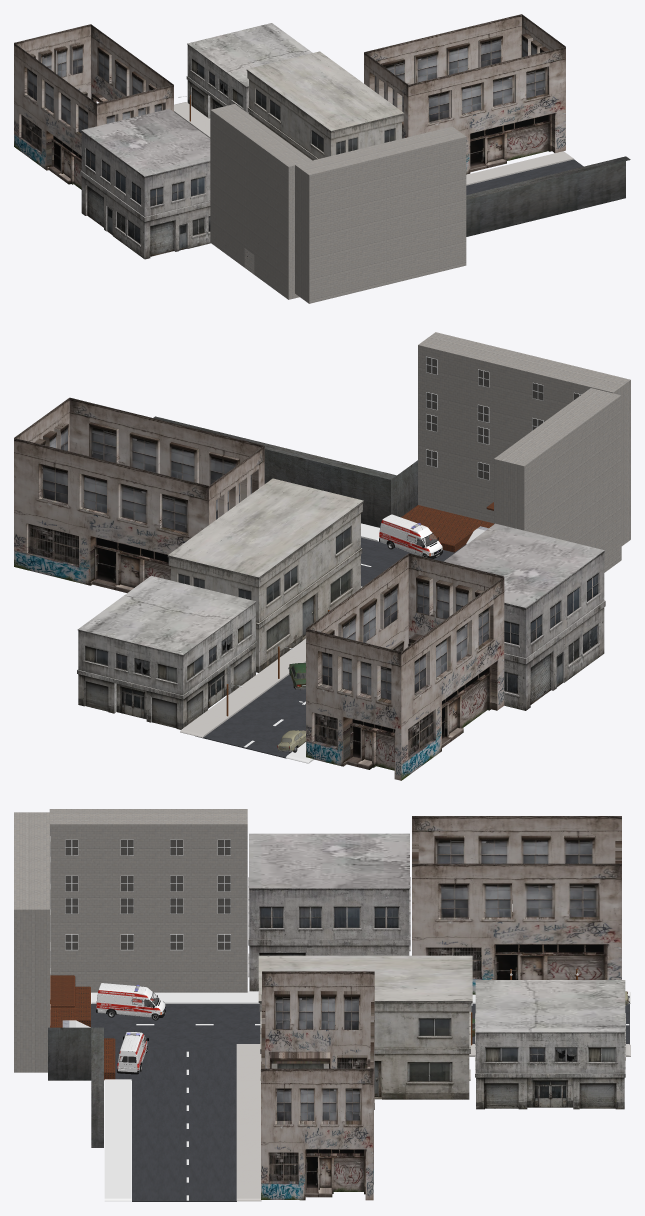
File: Street.glb
3 renders of one model, top to bottom at view 1: azimuth 30°, elevation 25°; view 2: azimuth 150°, elevation 25°; view 3: azimuth 270°, elevation 25°, orthographic. The views are drawn at different scales.
Visible parts, largest first — view 1: Hospital, building.003_Building_0.002, Building 2_2_0.001, building.003_Building_0.001, Hospital.001, Building 3_3_0.001, Object_2.004, Building 1_1_0.001, Left_Side, Left_Street; view 2: building.003_Building_0.001, building.003_Building_0.002, Hospital, Building 3_3_0.001, Building 1_1_0.001, Building 2_2_0.001, Hospital.001, Object_2.004, Street, Left_Side, Hospital_Step, Ambulance_Car.001 (+1 smaller); view 3: Hospital.001, building.003_Building_0.001, building.003_Building_0.002, Building 2_2_0.001, Building 1_1_0.001, Building 3_3_0.001, Left_Street, Hospital, Street, Left_Side, Object_2.004, Left_Left-Side (+5 smaller).
Boxes of the visible parts, bbox=[...] form: Hospital: bbox=[295, 126, 466, 303]; building.003_Building_0.002: bbox=[364, 14, 565, 174]; Building 2_2_0.001: bbox=[80, 108, 210, 259]; building.003_Building_0.001: bbox=[14, 24, 173, 189]; Hospital.001: bbox=[210, 104, 311, 299]; Building 3_3_0.001: bbox=[246, 51, 404, 160]; Object_2.004: bbox=[466, 156, 630, 236]; Building 1_1_0.001: bbox=[186, 23, 312, 118]; Left_Side: bbox=[174, 102, 573, 185]; Left_Street: bbox=[466, 159, 583, 194]; building.003_Building_0.001: bbox=[306, 553, 504, 780]; building.003_Building_0.002: bbox=[14, 397, 264, 592]; Hospital: bbox=[418, 332, 630, 545]; Building 3_3_0.001: bbox=[167, 478, 363, 672]; Building 1_1_0.001: bbox=[77, 575, 256, 729]; Building 2_2_0.001: bbox=[444, 523, 605, 710]; Hospital.001: bbox=[494, 388, 621, 572]; Object_2.004: bbox=[153, 416, 417, 527]; Street: bbox=[195, 544, 466, 758]; Left_Side: bbox=[180, 586, 362, 737]; Hospital_Step: bbox=[401, 505, 493, 552]; Ambulance_Car.001: bbox=[379, 514, 442, 558]; Hospital.001: bbox=[49, 809, 247, 992]; building.003_Building_0.001: bbox=[412, 816, 621, 994]; building.003_Building_0.002: bbox=[261, 971, 374, 1200]; Building 2_2_0.001: bbox=[248, 833, 410, 991]; Building 1_1_0.001: bbox=[475, 980, 625, 1109]; Building 3_3_0.001: bbox=[258, 955, 472, 1099]; Left_Street: bbox=[115, 1049, 236, 1201]; Hospital: bbox=[14, 812, 49, 1072]; Street: bbox=[91, 1004, 629, 1049]; Left_Side: bbox=[236, 1044, 630, 1201]; Object_2.004: bbox=[48, 1027, 103, 1147]; Left_Left-Side: bbox=[104, 1079, 131, 1201].
Bounding box in the file's own units: 50.14 × 15.2 × 49.56.
Materials: 63 (22 with a texture image).
